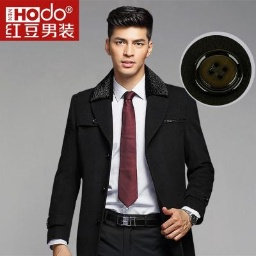face: (105, 5, 154, 76)
